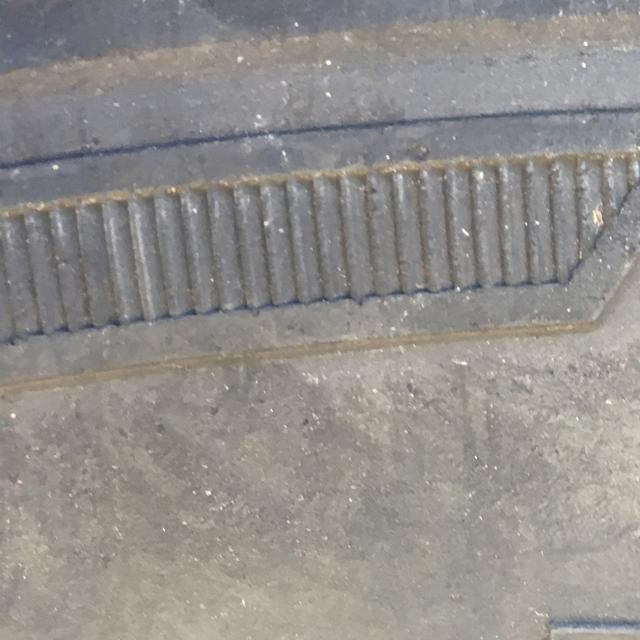Non-defective: (0, 1, 640, 637)
